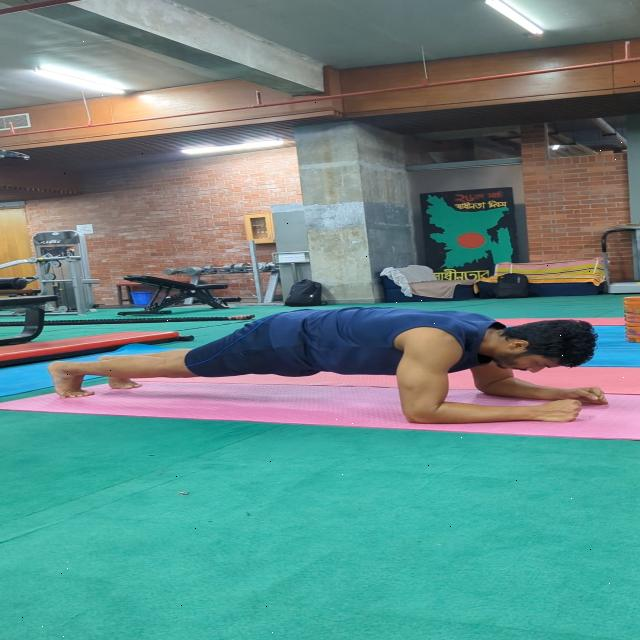Normal_Plunk: (40, 298, 628, 438)
